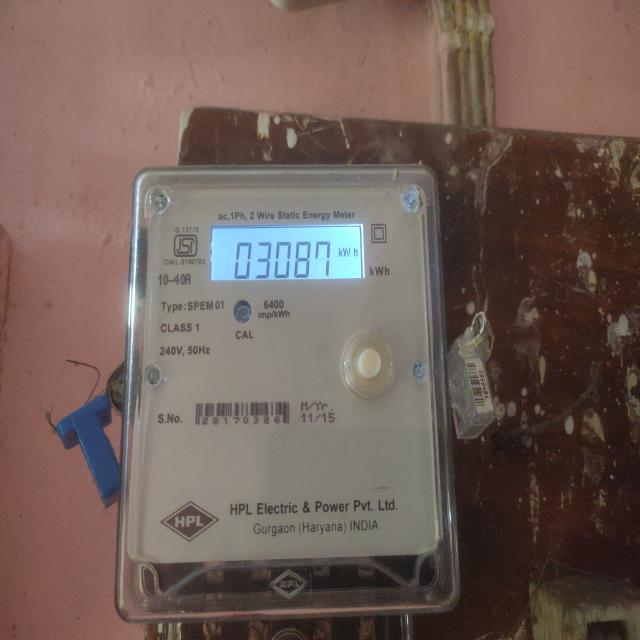display: (212, 224, 372, 288)
